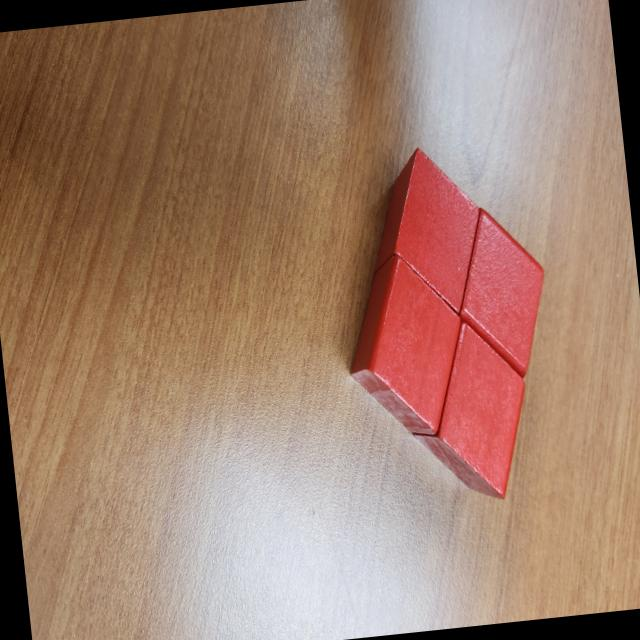red: (338, 246, 472, 444), (408, 314, 538, 508), (358, 140, 488, 324), (448, 199, 556, 385)
